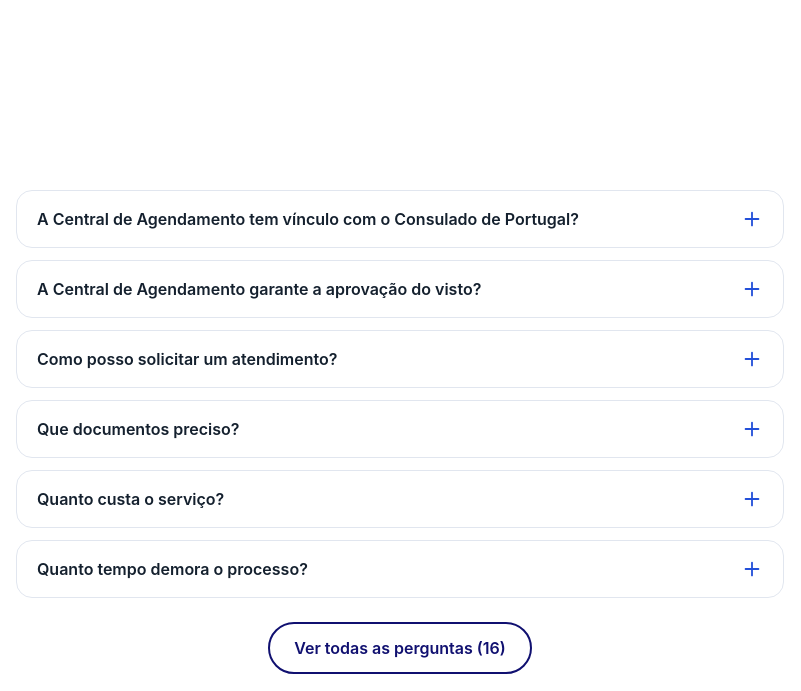
Test case: Faq › mostra 6 perguntas e expande para todas
The width and height of the screenshot is (801, 691).
Click the button "Ver todas as perguntas (16)".
click(400, 648)  # box [268,622,532,674]
(page scrolled)
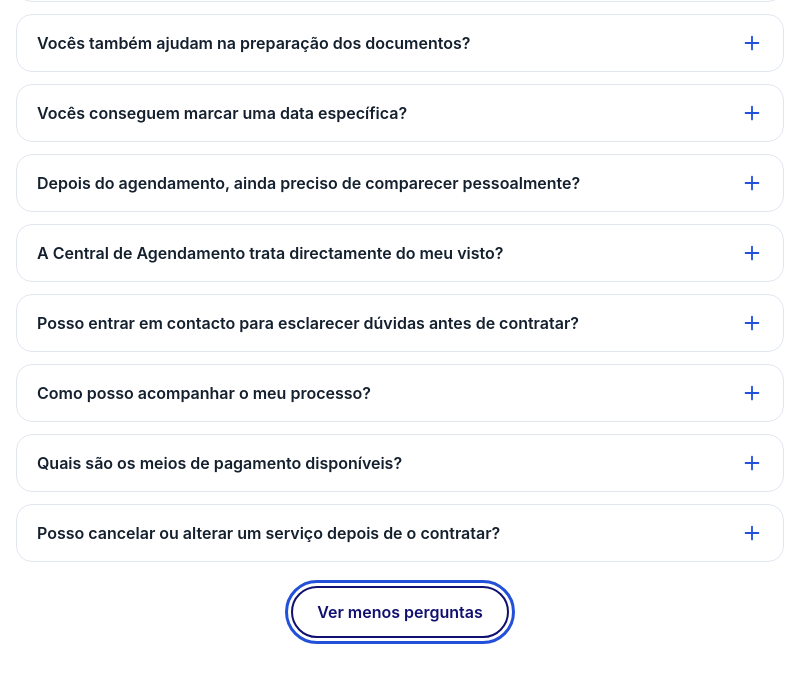
expect the button "Ver menos perguntas" is shown: met, box [291,586,509,638]
expect the button "Posso cancelar ou alterar um serviço depois de o contratar?" is shown: met, box [37,505,763,561]
